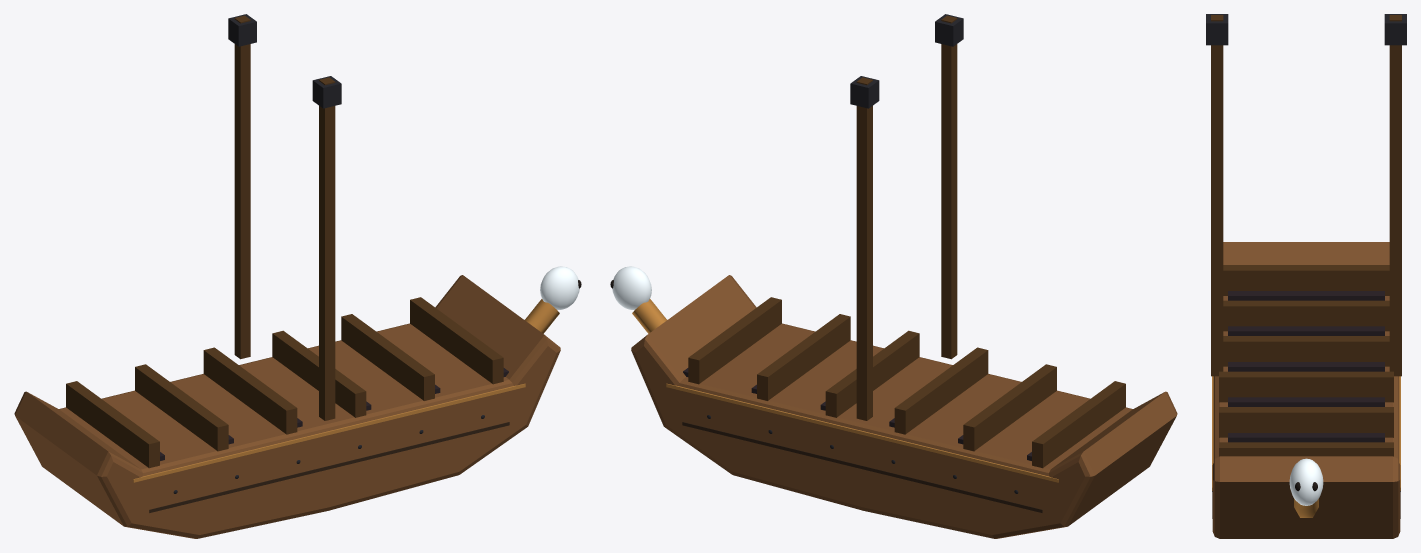
File: mia-pirate_boat.glb
3 views of the same model, side by side, from view 1: azimuth 30°, elevation 25°; view 2: azimuth 150°, elevation 25°; view 3: azimuth 270°, elevation 25° (orthographic). The views are drawn at different scales.
Visible parts, largest first — view 1: Body_oak, Body_wood, Body_brass, Body_iron, Body_grain, Body_porcelain; view 2: Body_oak, Body_wood, Body_brass, Body_iron, Body_grain, Body_porcelain; view 3: Body_wood, Body_oak, Body_leather, Body_iron, Body_porcelain, Body_brass.
Part boxes in pixels (x1,y1,x2,y2): Body_oak: [14, 275, 560, 538]; Body_wood: [66, 15, 503, 468]; Body_brass: [133, 299, 559, 482]; Body_iron: [173, 14, 484, 493]; Body_grain: [149, 422, 509, 512]; Body_porcelain: [540, 266, 579, 309]; Body_oak: [631, 275, 1177, 538]; Body_wood: [688, 15, 1125, 468]; Body_brass: [632, 299, 1058, 482]; Body_iron: [707, 14, 1018, 493]; Body_grain: [682, 422, 1042, 512]; Body_porcelain: [612, 266, 651, 309]; Body_wood: [1211, 15, 1401, 456]; Body_oak: [1212, 242, 1400, 538]; Body_leather: [1228, 291, 1384, 442]; Body_iron: [1206, 14, 1406, 491]; Body_porcelain: [1289, 458, 1323, 505]; Body_brass: [1212, 376, 1400, 517].
Size of the model in its own units: 7.14 by 5.63 by 2.25.
